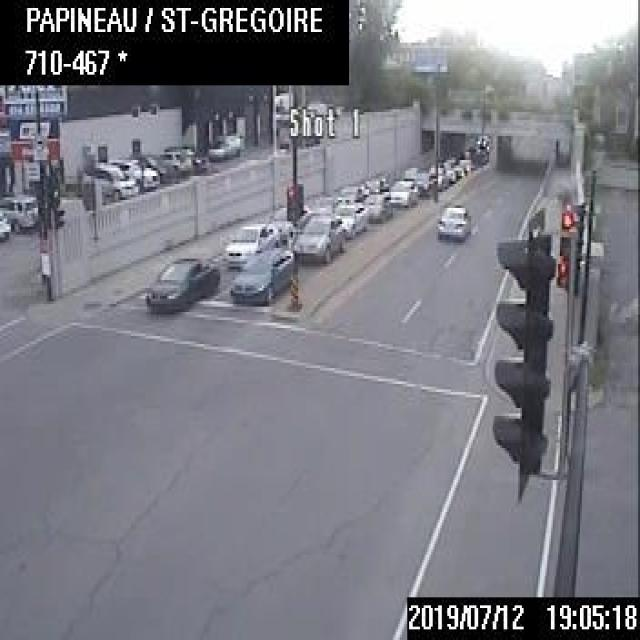vehicle: (222, 244, 293, 304), (144, 256, 220, 312), (225, 219, 278, 270), (291, 213, 345, 262), (80, 161, 139, 196), (270, 204, 310, 243), (0, 195, 44, 229), (434, 202, 470, 240), (124, 155, 158, 189), (163, 144, 206, 170), (330, 182, 367, 211), (335, 201, 367, 234), (138, 152, 172, 183), (388, 174, 422, 205), (207, 131, 240, 159), (362, 191, 394, 219), (156, 148, 190, 174), (412, 169, 432, 194), (428, 164, 447, 186), (363, 177, 388, 190), (0, 209, 9, 239)
